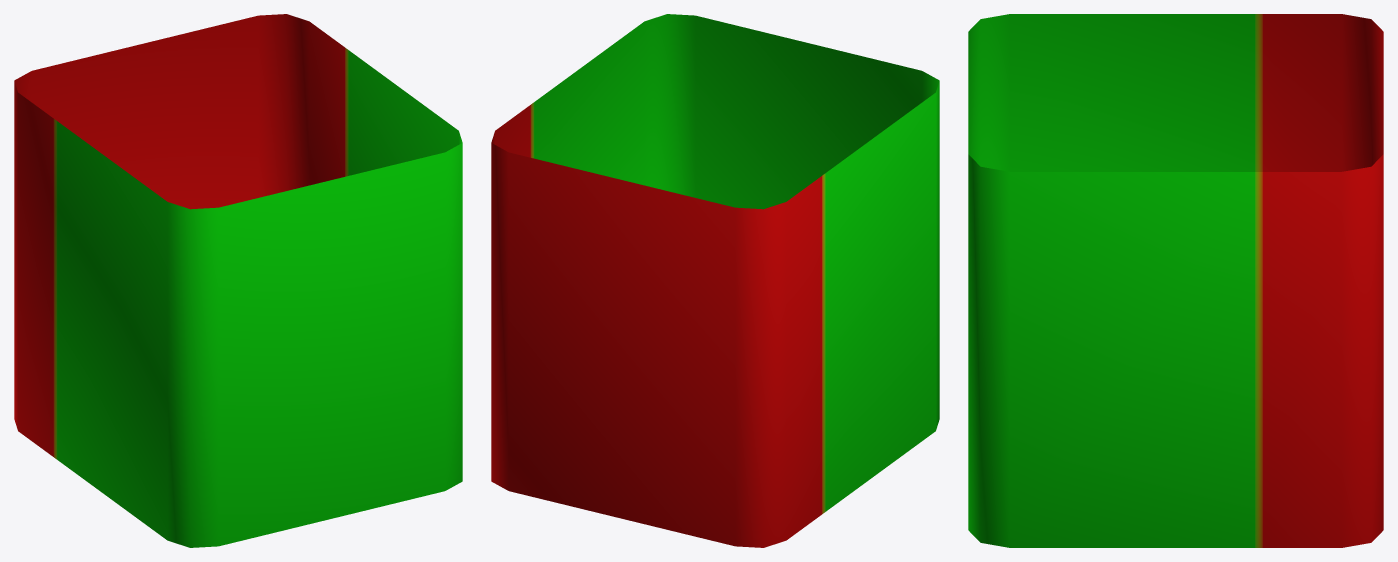
The model's file is Grass-I  I.fbx.
3 views of the same model, side by side, from view 1: azimuth 30°, elevation 25°; view 2: azimuth 150°, elevation 25°; view 3: azimuth 270°, elevation 25° (orthographic). The views are drawn at different scales.
Visible parts, largest first — view 1: Grass-I I; view 2: Grass-I I; view 3: Grass-I I.
Boxes of the visible parts, box(x1,y1,x2,y2) form: Grass-I I: box(14, 14, 462, 547); Grass-I I: box(491, 14, 939, 547); Grass-I I: box(968, 14, 1383, 547).
Size of the model in its own units: 90 by 100 by 100.
